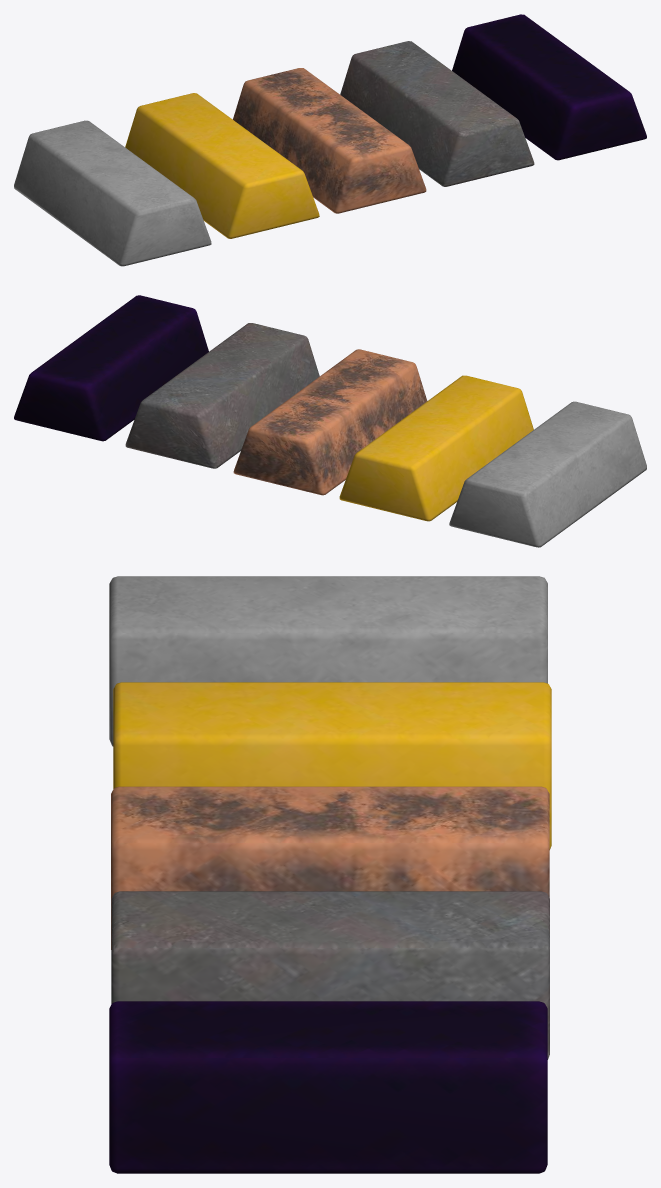
File: ingots.glb
The picture shows the model from 3 angles, top to bottom: view 1: azimuth 30°, elevation 25°; view 2: azimuth 150°, elevation 25°; view 3: azimuth 270°, elevation 25°; orthographic projection. The views are drawn at different scales.
Parts seen in each view (by area): view 1: Silver, Obsidian, Gold, Steel, Copper; view 2: Silver, Obsidian, Gold, Steel, Copper; view 3: Obsidian, Steel, Silver, Copper, Gold.
Part boxes in pixels (<box>): Silver: <box>14,120,211,266</box>; Obsidian: <box>452,14,646,160</box>; Gold: <box>125,93,319,238</box>; Steel: <box>340,41,534,186</box>; Copper: <box>233,68,426,213</box>; Silver: <box>449,401,646,547</box>; Obsidian: <box>14,295,208,441</box>; Gold: <box>339,375,533,521</box>; Steel: <box>125,323,319,468</box>; Copper: <box>233,349,427,495</box>; Obsidian: <box>109,1001,547,1173</box>; Steel: <box>111,891,549,1059</box>; Silver: <box>109,576,547,746</box>; Copper: <box>111,786,549,949</box>; Gold: <box>113,682,551,849</box>.
Bounding box in the file's own units: 4.4 × 0.4152 × 1.6.
Materials: 5 (5 with a texture image).
